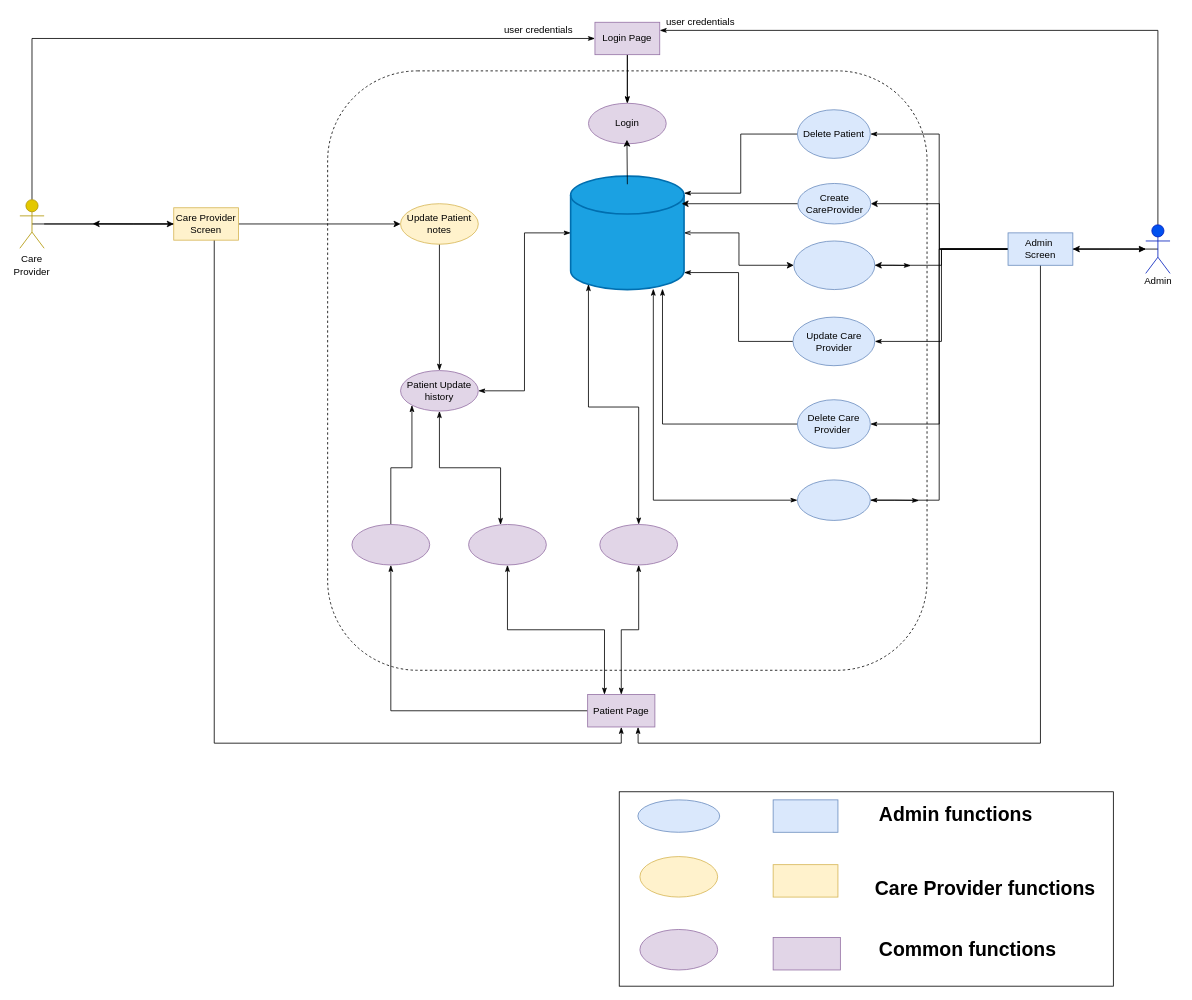
Some shapes in this 1192 by 1000 pixel diagram are drawn without their labels. The shapes that lost their labels are listed below. From the top down, each one's centre as x and y in pixels, then its label:
At point 626,232: "Database".
At point 834,265: "Read Care Provider".
At point 833,499: "Search Care Provider".
At point 390,544: "Update Patient details".
At point 507,544: "View Patient details".
At point 638,544: "Search patient".
